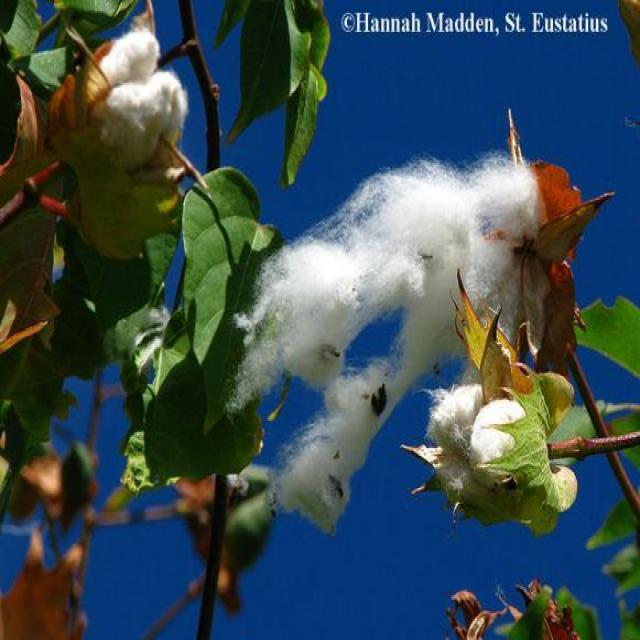Late_blight: (240, 157, 576, 522), (424, 367, 579, 528), (61, 34, 189, 210), (429, 384, 528, 523)
